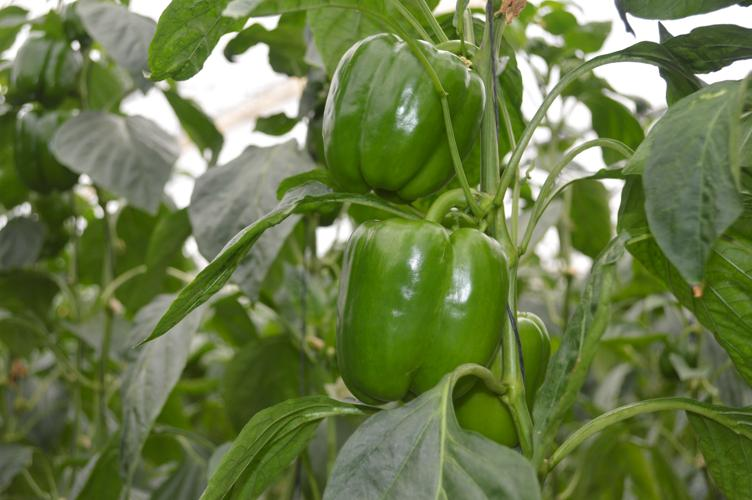BellPepper: (326, 219, 508, 401), (318, 36, 484, 202), (448, 313, 543, 450), (6, 107, 82, 194), (9, 39, 81, 104)
